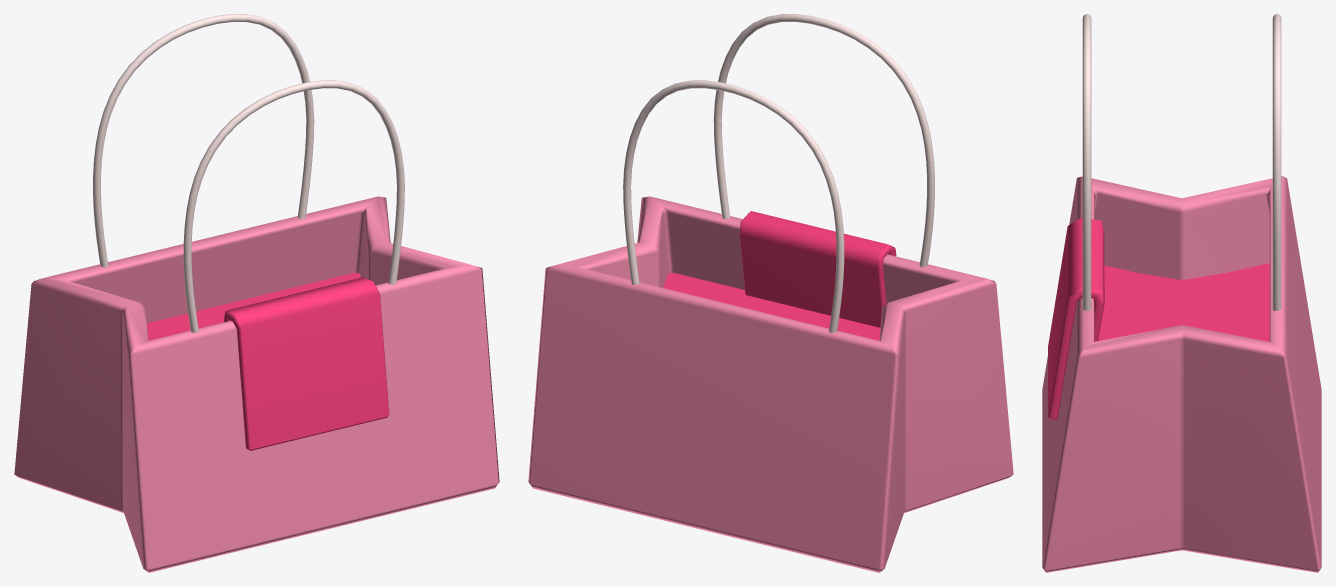
The model's file is Public_10_Package_2.glb.
3 views of the same model, side by side, from view 1: azimuth 30°, elevation 25°; view 2: azimuth 150°, elevation 25°; view 3: azimuth 270°, elevation 25° (orthographic). The views are drawn at different scales.
Parts seen in each view (by area): view 1: Public_10_Package_2; view 2: Public_10_Package_2; view 3: Public_10_Package_2.
Part boxes in pixels (x1,y1,x2,y2): Public_10_Package_2: [14, 14, 499, 572]; Public_10_Package_2: [528, 14, 1013, 572]; Public_10_Package_2: [1042, 14, 1321, 572].
Size of the model in its own units: 1.97 by 2.29 by 1.28.
Materials: 1 (1 with a texture image).
